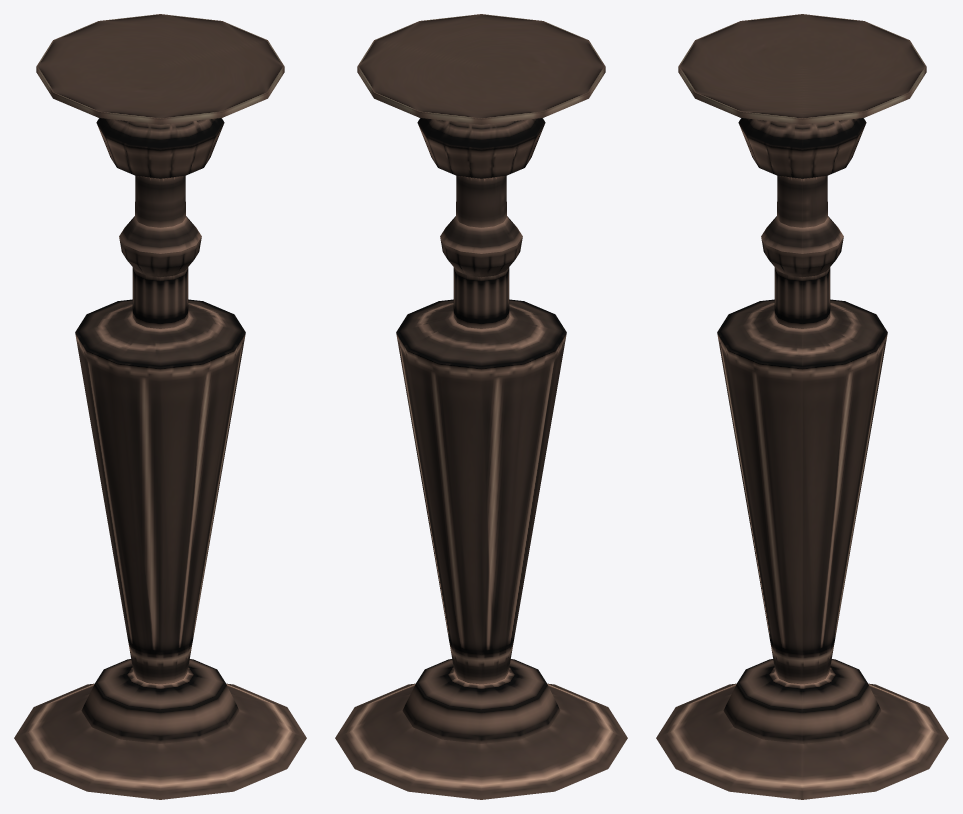
Rendered from Candle01_B01.FBX.
3 views of the same model, side by side, from view 1: azimuth 30°, elevation 25°; view 2: azimuth 150°, elevation 25°; view 3: azimuth 270°, elevation 25° (orthographic).
Visible parts, largest first — view 1: Candle01_B01; view 2: Candle01_B01; view 3: Candle01_B01.
Boxes of the visible parts, x1=… form: Candle01_B01: x1=14, y1=14, x2=306, y2=799; Candle01_B01: x1=335, y1=14, x2=627, y2=799; Candle01_B01: x1=656, y1=14, x2=948, y2=799.
Bounding box in the file's own units: 18.63 × 18.63 × 47.14.
